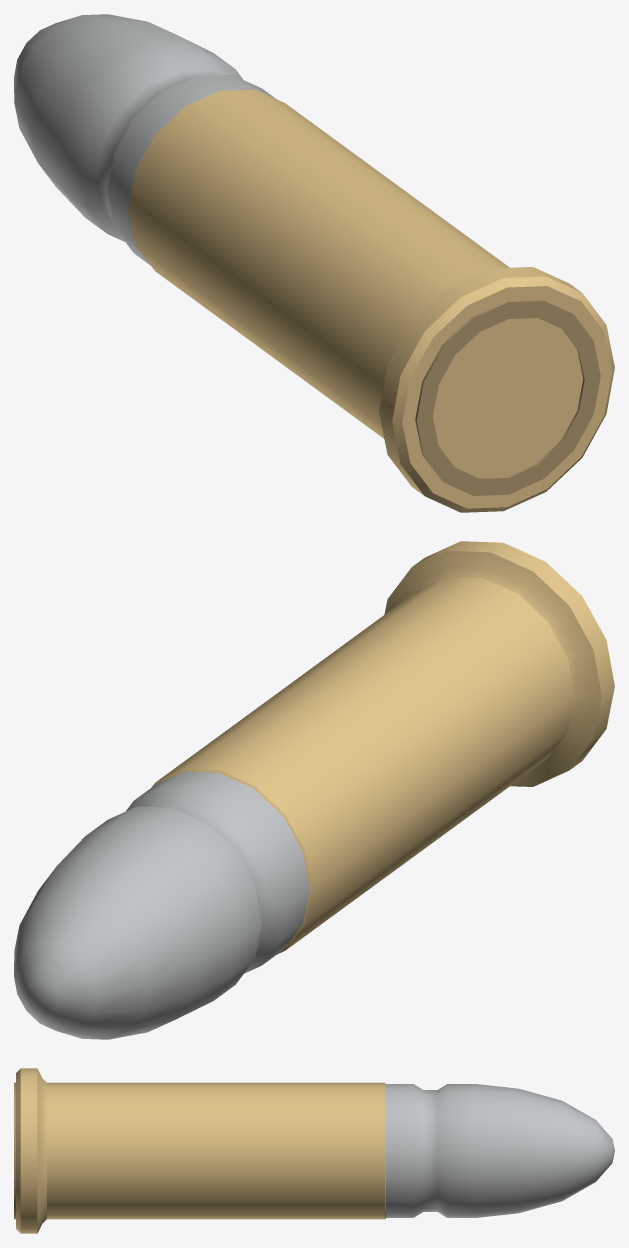
The model's file is round_22lr.glb.
3 renders of one model, top to bottom at view 1: azimuth 30°, elevation 25°; view 2: azimuth 150°, elevation 25°; view 3: azimuth 270°, elevation 25°, orthographic. The views are drawn at different scales.
Parts seen in each view (by area): view 1: body; view 2: body; view 3: body.
Boxes of the visible parts, <box> form: body: <box>14,14,614,512</box>; body: <box>14,541,614,1039</box>; body: <box>14,1068,614,1233</box>.
Size of the model in its own units: 0.0069 by 0.0069 by 0.0251.
